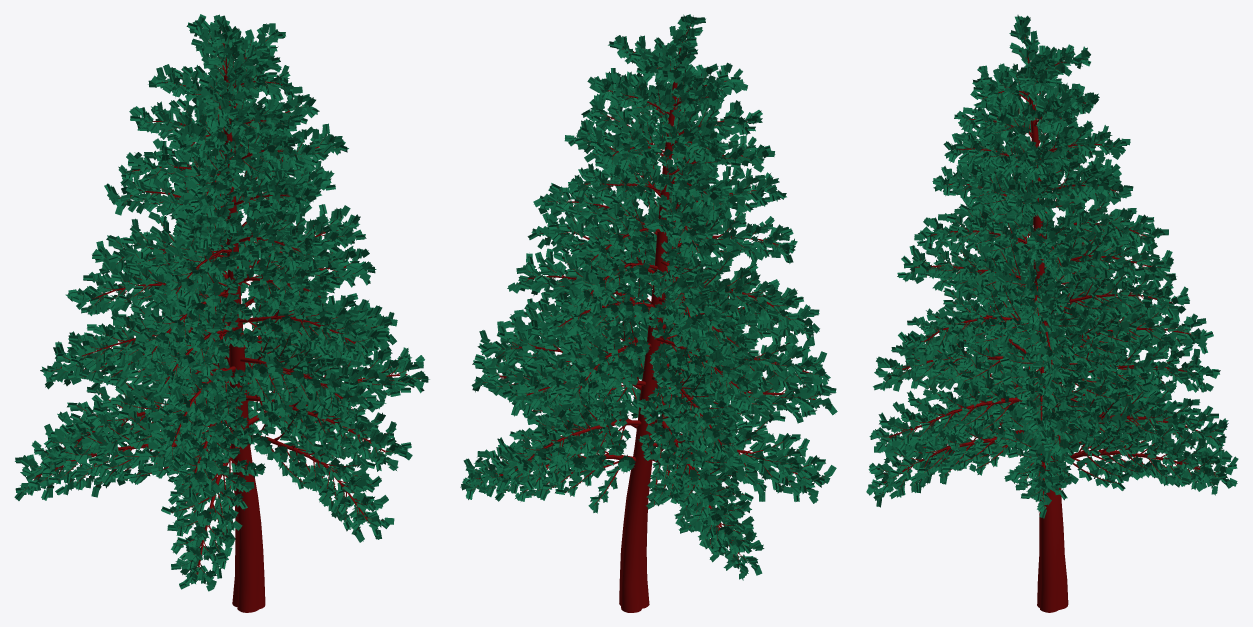
The model's file is tree export.fbx.
3 views of the same model, side by side, from view 1: azimuth 30°, elevation 25°; view 2: azimuth 150°, elevation 25°; view 3: azimuth 270°, elevation 25° (orthographic). The views are drawn at different scales.
Visible parts, largest first — view 1: Foliage001; view 2: Foliage001; view 3: Foliage001.
Boxes of the visible parts, bbox=[...] form: Foliage001: bbox=[14, 14, 429, 612]; Foliage001: bbox=[460, 14, 837, 612]; Foliage001: bbox=[866, 15, 1238, 612].
Bounding box in the file's own units: 415 × 685 × 406.
